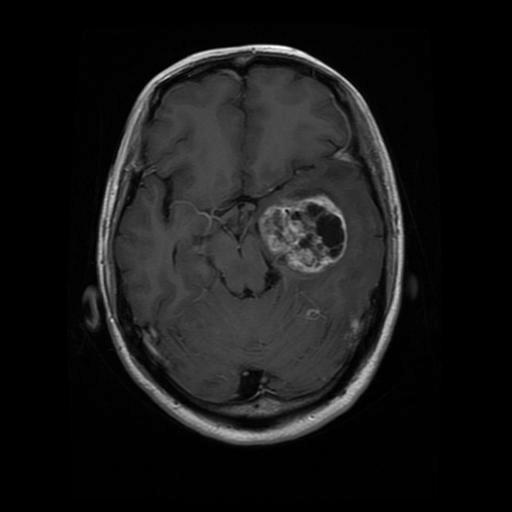Tumour-Glioma: (255, 192, 373, 269)
